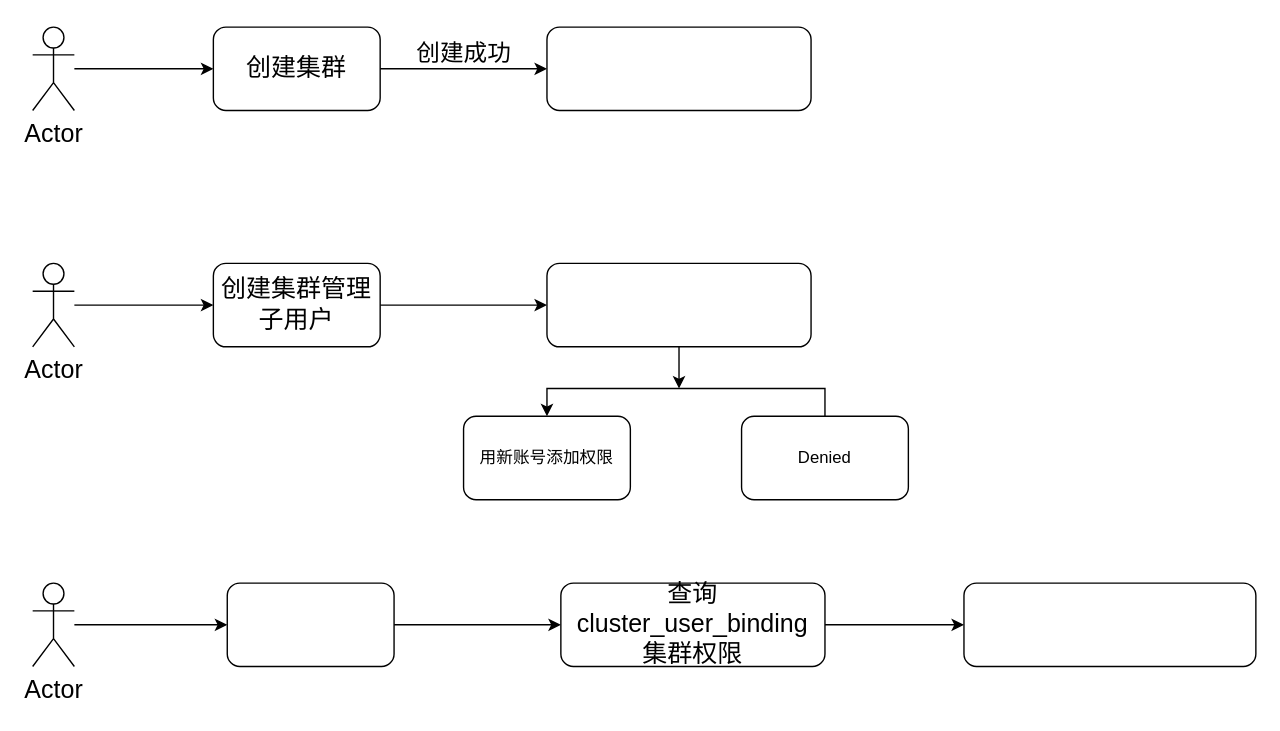
The diagram is 1280 pixels wide and 731 high, and some of its shapes have lost their labels. The centre of each missing label's shape, as x and y in pixels:
"查看集群信息" belongs at (x=310, y=624).
"查询 cluster_user_binding 是否具有管理员权限" belongs at (x=678, y=304).
"根据返回的 cluster_id 聚合查询 cluster 信息" belongs at (x=1109, y=624).
"生成 cluster_user_binding 管理员权限" belongs at (x=678, y=68).
